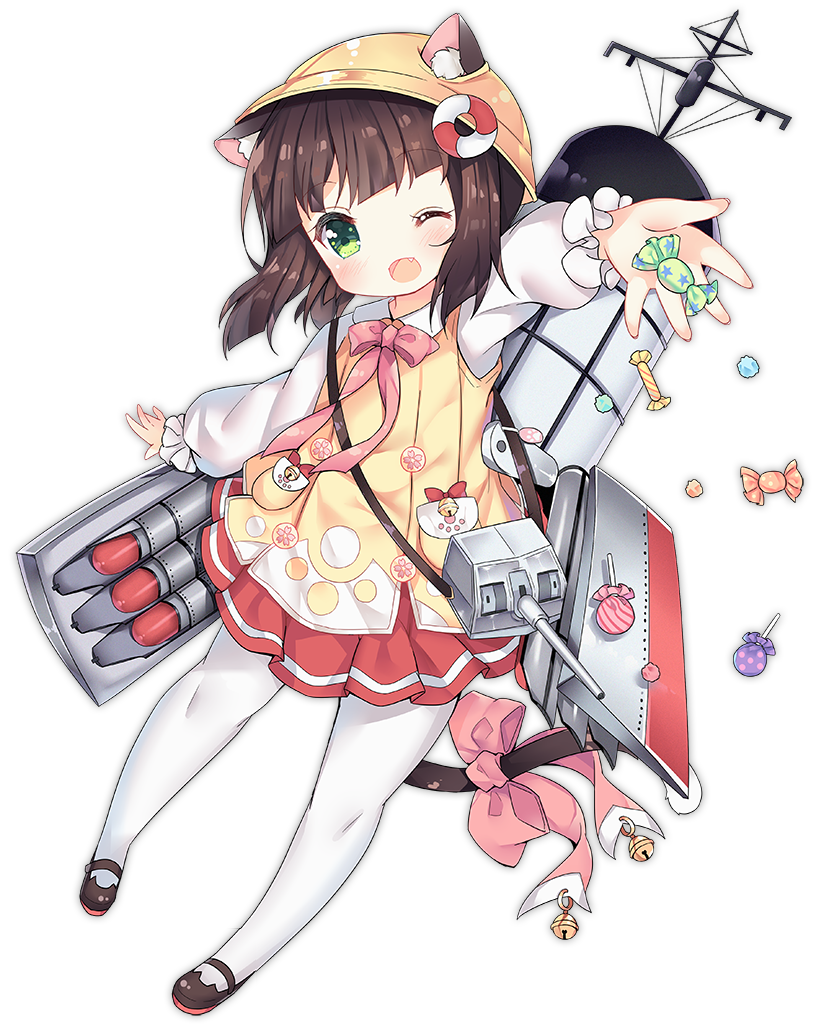person: (7, 18, 596, 920)
